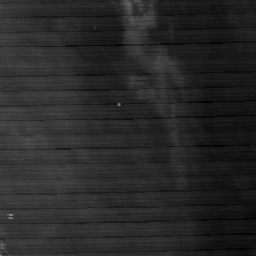Target: (115, 101, 122, 107)
